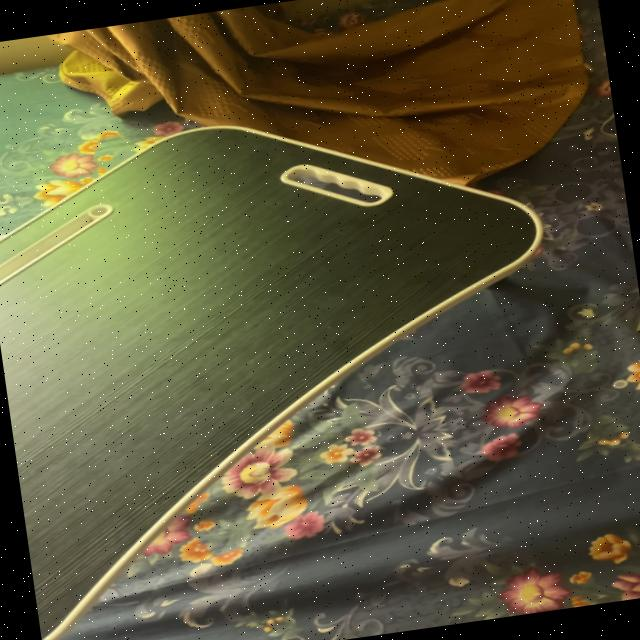table: (0, 77, 614, 640)
